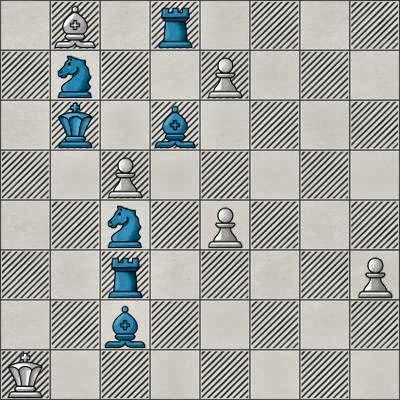black-bishop: (150, 100, 200, 150), (100, 300, 150, 350)
black-king: (50, 100, 100, 150)
black-knight: (50, 50, 100, 100), (100, 200, 150, 250)
black-rook: (150, 0, 200, 50), (100, 250, 150, 300)
white-bishop: (50, 0, 100, 50)
white-king: (0, 350, 50, 400)
white-pawn: (200, 50, 250, 100), (100, 150, 150, 200), (200, 200, 250, 250), (350, 250, 400, 300)
